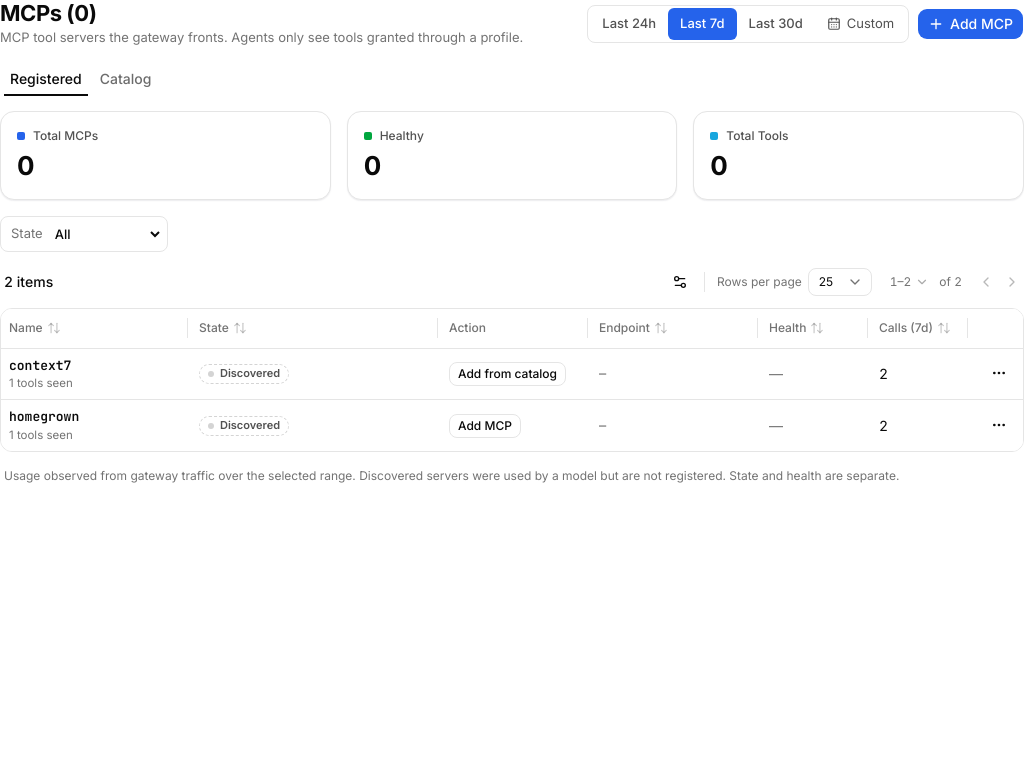
Test case: refresh after adding a discovered item › Add from catalog: Discovered row flips to a connector row without reload
Expected: the text "context7" shows "Discovered", [220,366,280,380]
Click the button with aria-label "Add from catalog: context7": (508, 374) [449,362,566,386]
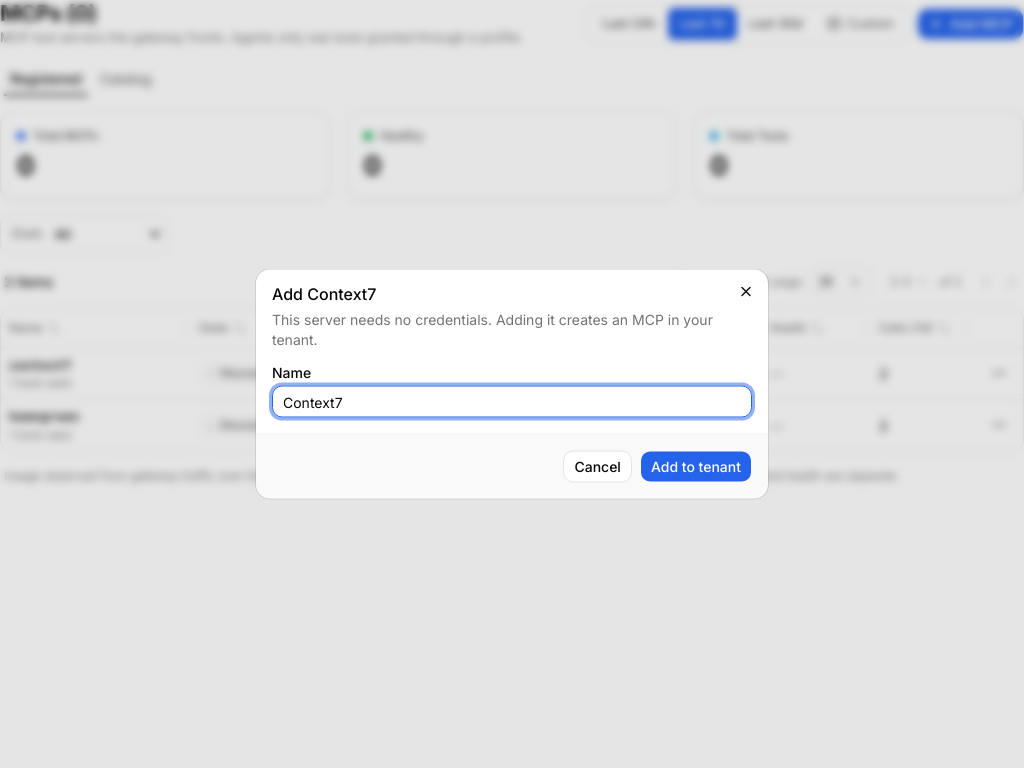
Click the button "Add to tenant": (696, 466) [640,450,752,482]
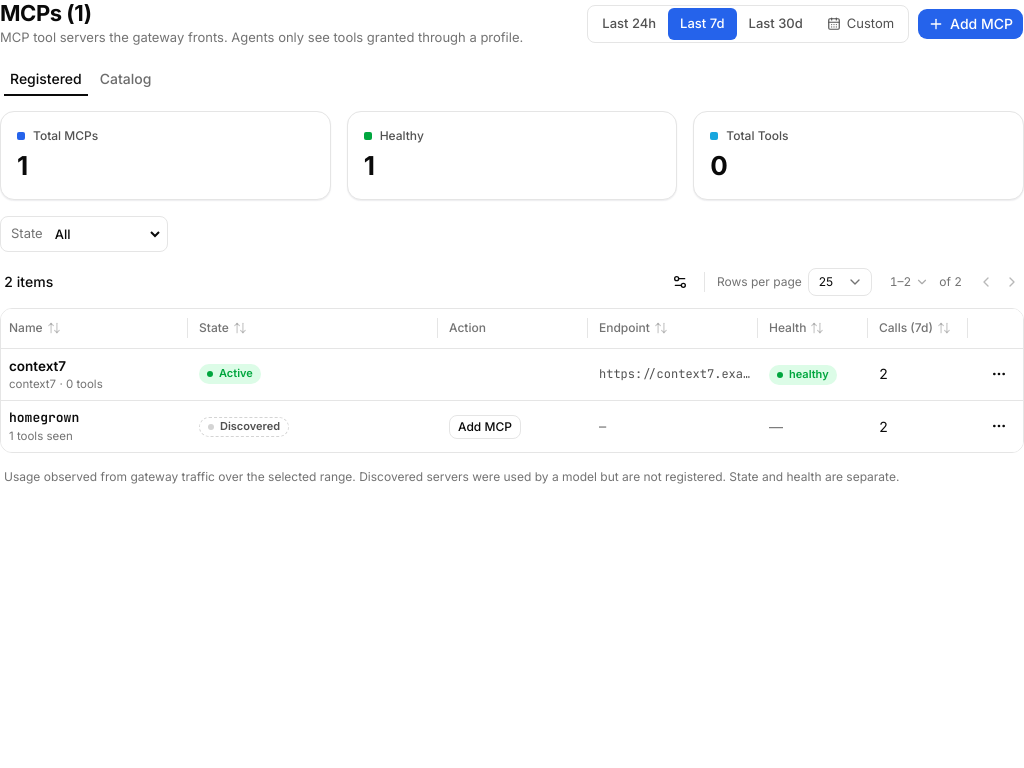
Expected: the text "context7" does not show "Discovered", [1,348,1023,401]
Now the text "context7" shows "Active", box [219,366,253,380]
